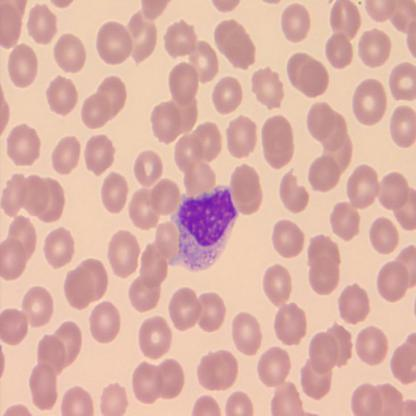Metamyelocyte: (167, 182, 240, 275)
